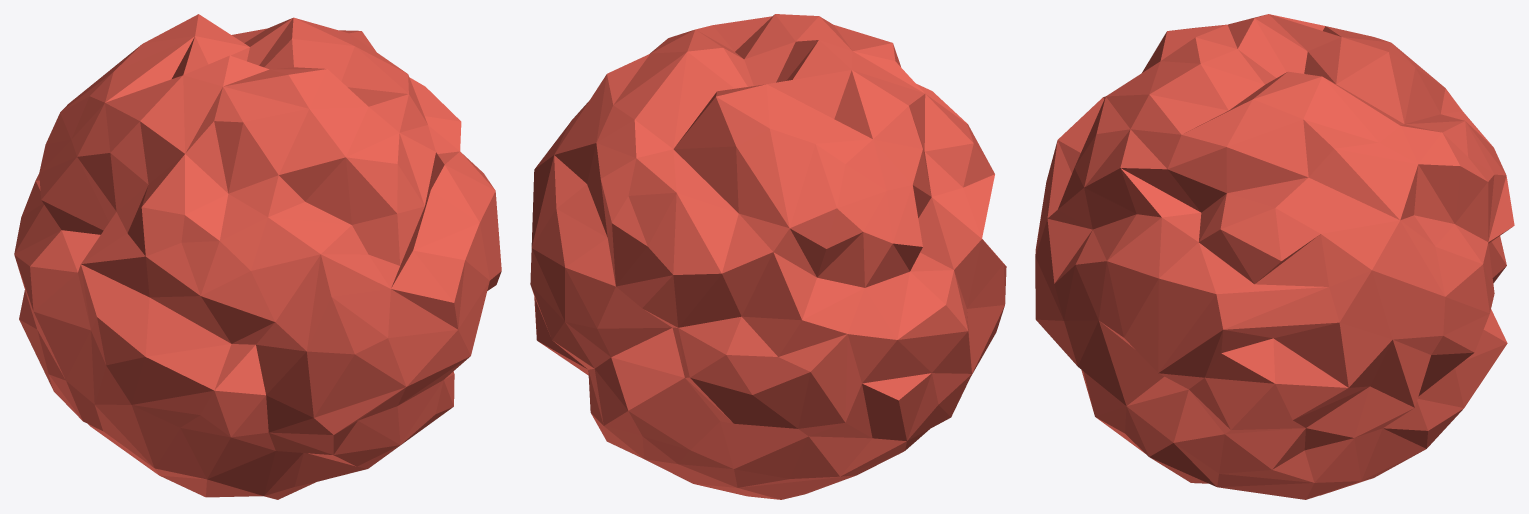
Rendered from dry_planet1.fbx.
The picture shows the model from 3 angles, left to right: view 1: azimuth 30°, elevation 25°; view 2: azimuth 150°, elevation 25°; view 3: azimuth 270°, elevation 25°; orthographic projection.
Parts seen in each view (by area): view 1: dry_planet1; view 2: dry_planet1; view 3: dry_planet1.
Boxes of the visible parts, x1=… form: dry_planet1: x1=14, y1=14, x2=501, y2=499; dry_planet1: x1=530, y1=14, x2=1006, y2=499; dry_planet1: x1=1035, y1=14, x2=1514, y2=499.
Bounding box in the file's own units: 199 × 198 × 195.
